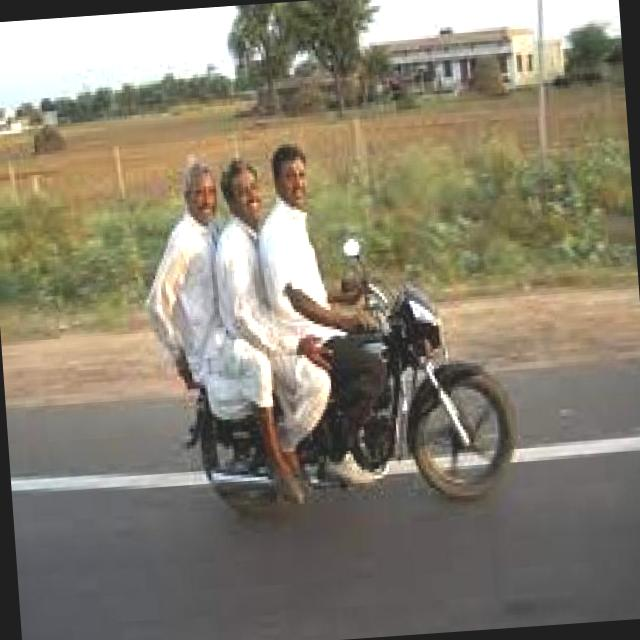motorcycle: (168, 274, 522, 528)
person: (133, 154, 243, 436), (204, 158, 291, 432), (260, 142, 342, 420)
rider_region: (145, 134, 520, 520)
